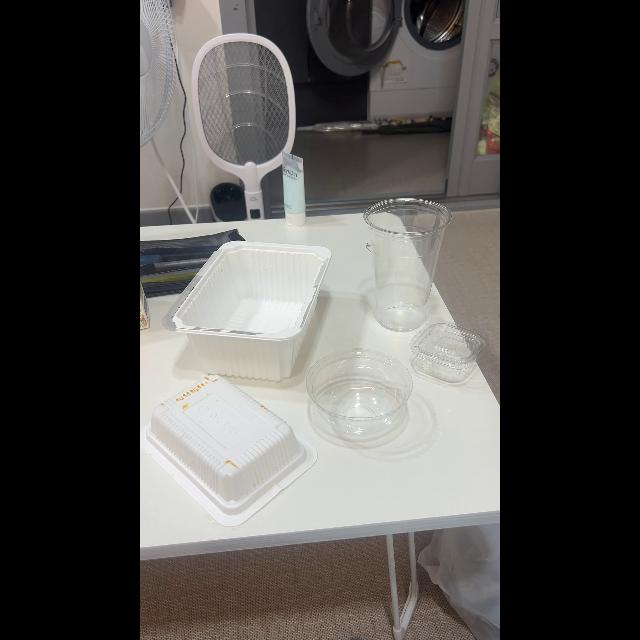clean: (177, 241, 324, 370), (366, 196, 436, 324), (313, 354, 409, 440), (415, 328, 481, 380)
dirty: (155, 374, 289, 508)
